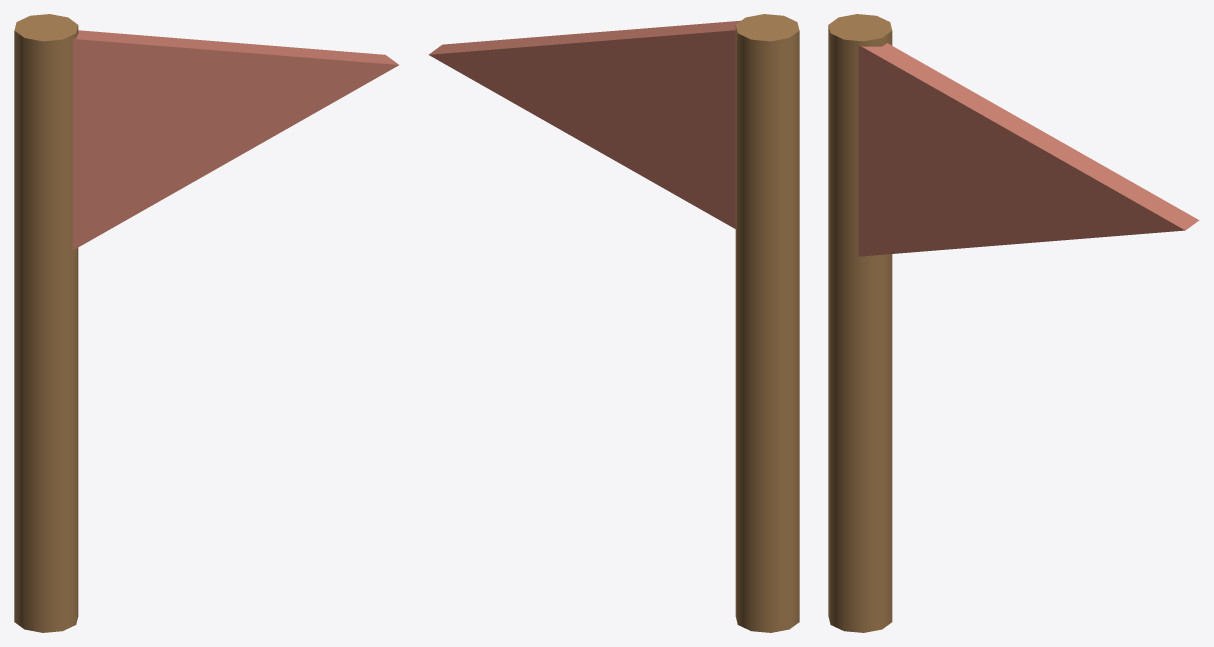
File: land_marker.glb
3 renders of one model, left to right at view 1: azimuth 30°, elevation 25°; view 2: azimuth 150°, elevation 25°; view 3: azimuth 330°, elevation 25°, orthographic.
Parts seen in each view (by area): view 1: land_marker; view 2: land_marker; view 3: land_marker.
Part boxes in pixels (left/top/right/bottom): land_marker: left=14, top=14, right=398, bottom=632; land_marker: left=428, top=14, right=799, bottom=632; land_marker: left=828, top=14, right=1199, bottom=632.
Size of the model in its own units: 0.4533 by 0.7 by 0.07.
